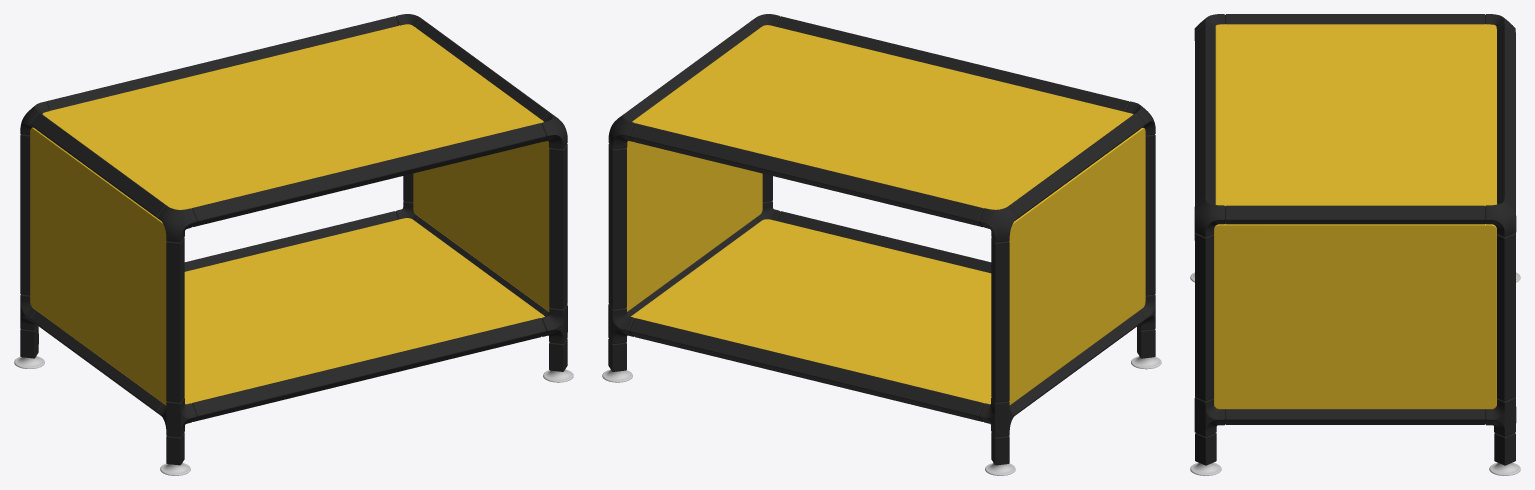
The picture shows the model from 3 angles, left to right: view 1: azimuth 30°, elevation 25°; view 2: azimuth 150°, elevation 25°; view 3: azimuth 270°, elevation 25°; orthographic projection. The views are drawn at different scales.
Visible parts, largest first — view 1: 523x329x229; view 2: 523x329x229; view 3: 523x329x229.
Part boxes in pixels (<box>): 523x329x229: <box>14,14,573,475</box>; 523x329x229: <box>602,14,1161,475</box>; 523x329x229: <box>1190,14,1520,475</box>.
Bounding box in the file's own units: 0.6129 × 0.3683 × 0.4182.
